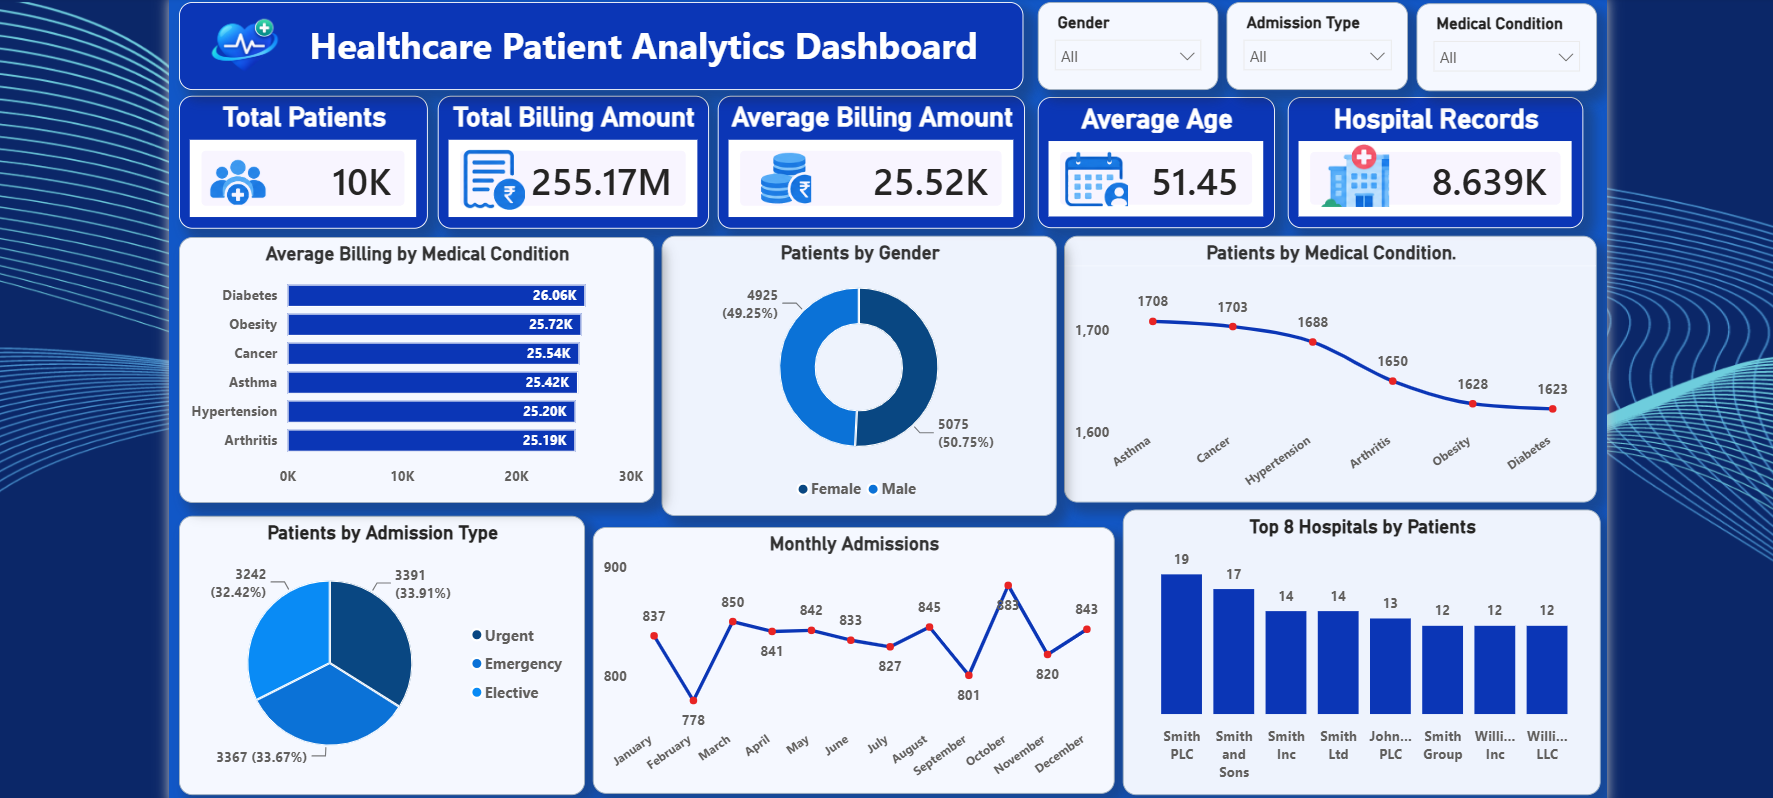

Layout of this report page (visuals, bound fields, positions):
{"tool":"powerbi","page":{"name":"Page 1","canvas":[1280,720],"ordinal":0},"visuals":[{"type":"cardVisual","title":"Total Patients","fields":{"Data":["CountNonNull(HEALTHCARE CLEANED.Name)"]},"box":[8.4,88.1,222,118.2],"z":0},{"type":"cardVisual","title":"Total Billing Amount","fields":{"Data":["Sum(HEALTHCARE CLEANED.Billing Amount)"]},"box":[238.9,88.1,241.3,118.2],"z":1000},{"type":"cardVisual","title":"Average Billing Amount","fields":{"Data":["Avg(HEALTHCARE CLEANED.Billing Amount)"]},"box":[488.6,88.1,273.9,118.2],"z":2000},{"type":"cardVisual","title":"Average Age","fields":{"Data":["Avg(HEALTHCARE CLEANED.Age)"]},"box":[773.3,89.3,211.1,117],"z":3000},{"type":"cardVisual","title":"Hospital Records","fields":{"Data":["Count(HEALTHCARE CLEANED.Hospital)"]},"box":[996.5,89.3,263,117],"z":4000},{"type":"lineChart","title":"Patients by Medical Condition.","fields":{"Category":["HEALTHCARE CLEANED.Medical Condition"],"Y":["CountNonNull(HEALTHCARE CLEANED.Name)"]},"box":[797.5,212.3,474.1,237.7],"z":5000},{"type":"donutChart","title":"Patients by Gender","fields":{"Category":["HEALTHCARE CLEANED.Gender"],"Y":["CountNonNull(HEALTHCARE CLEANED.Name)"]},"box":[439.1,212.3,352.3,249.7],"z":6000},{"type":"pieChart","title":"Patients by Admission Type","fields":{"Category":["HEALTHCARE CLEANED.Admission Type"],"Y":["CountNonNull(HEALTHCARE CLEANED.Name)"]},"box":[8.6,461.4,361.4,248.6],"z":7000},{"type":"lineChart","title":"Monthly Admissions","fields":{"Category":["HEALTHCARE CLEANED.Date of Admission.Variation.Date Hierarchy.Month"],"Y":["CountNonNull(HEALTHCARE CLEANED.Name)"]},"box":[377.6,471.7,464.5,237.7],"z":8000},{"type":"columnChart","title":"Top 8 Hospitals by Patients","fields":{"Category":["HEALTHCARE CLEANED.Hospital"],"Y":["CountNonNull(HEALTHCARE CLEANED.Name)"]},"box":[849.3,456,425.9,254.6],"z":9000},{"type":"barChart","title":"Average Billing by Medical Condition","fields":{"Category":["HEALTHCARE CLEANED.Medical Condition"],"Y":["Avg(HEALTHCARE CLEANED.Billing Amount)"]},"box":[8.4,213.5,423.5,236.5],"z":10000},{"type":"textbox","box":[8.4,4.8,751.6,78.4],"z":11000},{"type":"slicer","fields":{"Values":["HEALTHCARE CLEANED.Gender"]},"box":[773.3,4.8,160.5,78.4],"z":12000},{"type":"slicer","fields":{"Values":["HEALTHCARE CLEANED.Admission Type"]},"box":[942.2,4.8,161.7,78.4],"z":13000},{"type":"slicer","fields":{"Values":["HEALTHCARE CLEANED.Medical Condition"]},"box":[1111.1,6,160.5,78.4],"z":14000},{"type":"image","box":[1007.4,115.8,85.7,71.2],"z":15000},{"type":"image","box":[789,124.3,65.1,62.7],"z":16000},{"type":"image","box":[513.9,132.7,57.9,55.5],"z":17000},{"type":"image","box":[254.3,128.6,62.9,62.9],"z":18000},{"type":"image","box":[31.4,131.5,57.9,62.7],"z":19000},{"type":"image","box":[0,9.7,133.9,67.6],"z":20000},{"type":"textbox","box":[120.6,15.7,618.9,56.7],"z":21000}]}

Visuals, with their boxes in screenshot pixels (x1, y1, x2, y2):
"Total Patients" cardVisual: select_region(167, 91, 418, 225)
"Total Billing Amount" cardVisual: select_region(428, 91, 702, 225)
"Average Billing Amount" cardVisual: select_region(711, 91, 1022, 225)
"Average Age" cardVisual: select_region(1034, 92, 1274, 225)
"Hospital Records" cardVisual: select_region(1287, 92, 1586, 225)
"Patients by Medical Condition." lineChart: select_region(1062, 232, 1599, 501)
"Patients by Gender" donutChart: select_region(655, 232, 1055, 515)
"Patients by Admission Type" pieChart: select_region(167, 514, 577, 796)
"Monthly Admissions" lineChart: select_region(585, 526, 1112, 795)
"Top 8 Hospitals by Patients" columnChart: select_region(1120, 508, 1603, 797)
"Average Billing by Medical Condition" barChart: select_region(167, 233, 647, 501)
textbox: select_region(167, 0, 1019, 85)
slicer - HEALTHCARE CLEANED.Gender: select_region(1034, 0, 1216, 85)
slicer - HEALTHCARE CLEANED.Admission Type: select_region(1226, 0, 1409, 85)
slicer - HEALTHCARE CLEANED.Medical Condition: select_region(1417, 0, 1599, 87)
image: select_region(1300, 122, 1397, 203)
image: select_region(1052, 132, 1126, 203)
image: select_region(740, 141, 806, 204)
image: select_region(445, 137, 517, 208)
image: select_region(193, 140, 258, 211)
image: select_region(157, 2, 309, 78)
textbox: select_region(294, 9, 996, 73)
